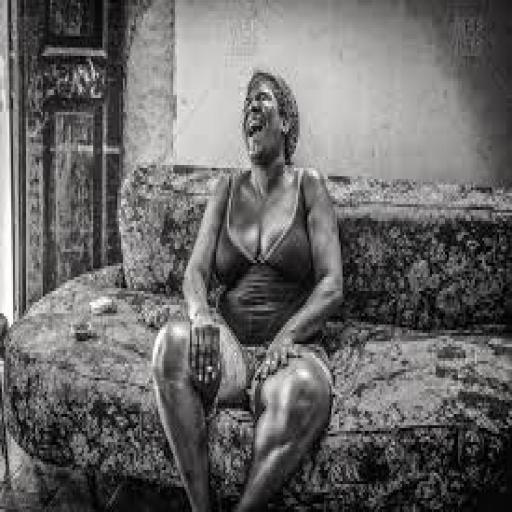laughing: (143, 59, 352, 509)
